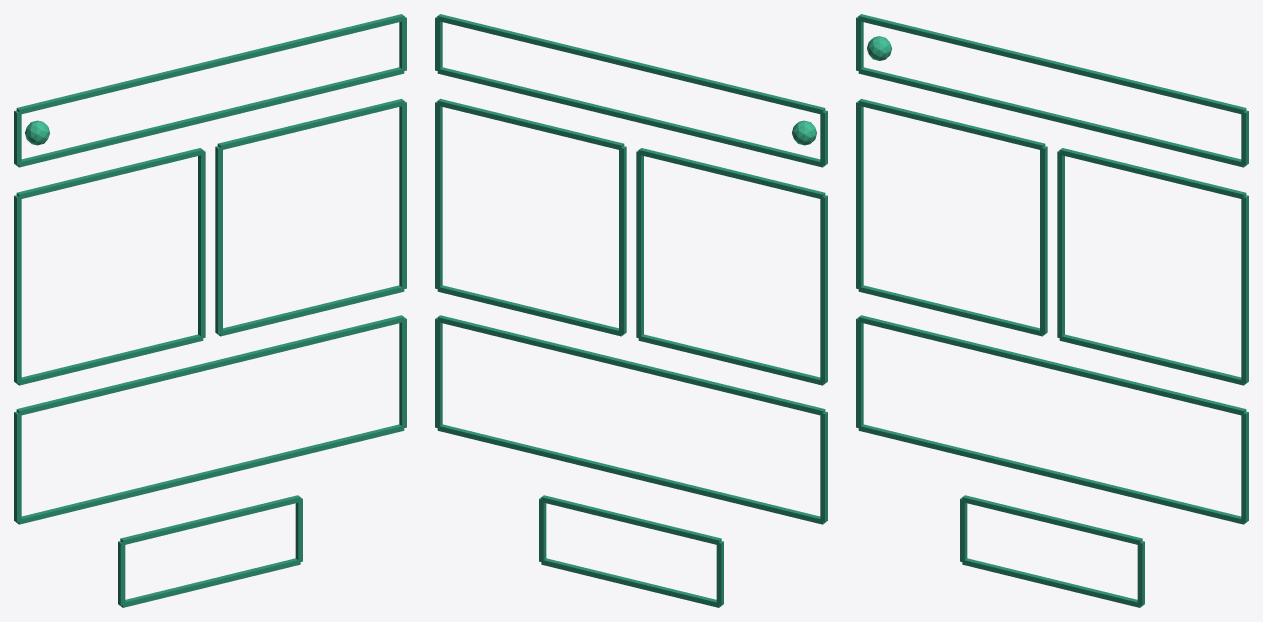
The model's file is scene-02-wireframe-light.glb.
The picture shows the model from 3 angles, left to right: view 1: azimuth 30°, elevation 25°; view 2: azimuth 150°, elevation 25°; view 3: azimuth 330°, elevation 25°; orthographic projection.
Visible parts, largest first — view 1: wire12, wire0, wire1, wire13, wire8, wire4, wire5, wire9, wire10, wire6, wire16, wire7 (+4 smaller); view 2: wire12, wire0, wire1, wire13, wire8, wire4, wire5, wire9, wire6, wire10, wire16, wire7 (+4 smaller); view 3: wire12, wire0, wire1, wire13, wire4, wire8, wire9, wire5, wire11, wire7, wire16, wire10 (+4 smaller).
Boxes of the visible parts, bbox=[...] form: wire12: bbox=[16, 315, 404, 415]; wire0: bbox=[16, 14, 404, 114]; wire1: bbox=[17, 67, 404, 167]; wire13: bbox=[17, 424, 404, 524]; wire8: bbox=[217, 98, 404, 150]; wire4: bbox=[16, 148, 203, 199]; wire5: bbox=[17, 334, 203, 385]; wire9: bbox=[218, 285, 404, 336]; wire10: bbox=[215, 146, 222, 334]; wire6: bbox=[14, 195, 21, 383]; wire16: bbox=[120, 495, 300, 545]; wire7: bbox=[198, 150, 205, 337]; wire12: bbox=[437, 315, 825, 415]; wire0: bbox=[437, 14, 825, 114]; wire1: bbox=[437, 67, 824, 167]; wire13: bbox=[437, 424, 824, 524]; wire8: bbox=[437, 98, 624, 150]; wire4: bbox=[638, 148, 825, 199]; wire5: bbox=[638, 334, 824, 385]; wire9: bbox=[437, 285, 623, 336]; wire6: bbox=[820, 195, 827, 383]; wire10: bbox=[619, 146, 626, 334]; wire16: bbox=[541, 495, 721, 545]; wire7: bbox=[636, 150, 643, 337]; wire12: bbox=[858, 315, 1246, 415]; wire0: bbox=[858, 14, 1246, 114]; wire1: bbox=[858, 67, 1245, 167]; wire13: bbox=[858, 424, 1245, 524]; wire4: bbox=[858, 98, 1045, 150]; wire8: bbox=[1059, 148, 1246, 199]; wire9: bbox=[1059, 334, 1245, 385]; wire5: bbox=[858, 285, 1044, 336]; wire11: bbox=[1241, 195, 1248, 383]; wire7: bbox=[1040, 146, 1047, 334]; wire16: bbox=[962, 495, 1142, 545]; wire10: bbox=[1057, 150, 1064, 337].
Bounding box in the file's own units: 2.48 × 3.18 × 0.14.
